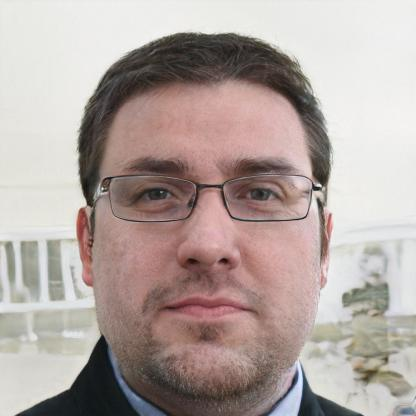glasses: (96, 169, 318, 229)
